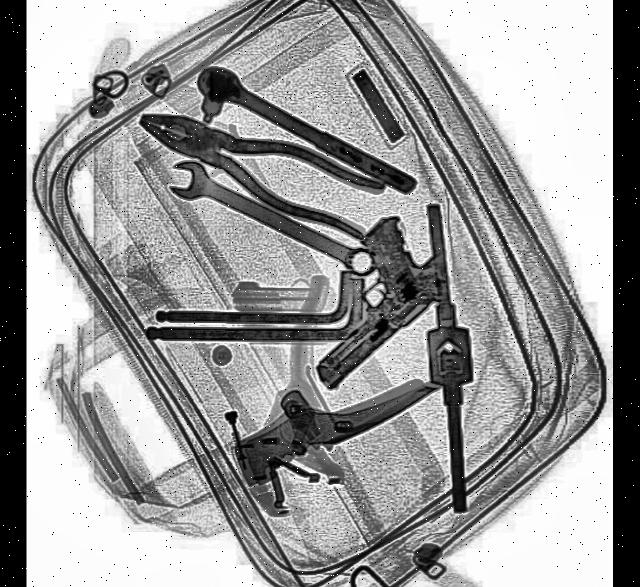Gun: (279, 200, 458, 400)
Pliers: (131, 87, 388, 248)
Wrench: (167, 155, 382, 288)
